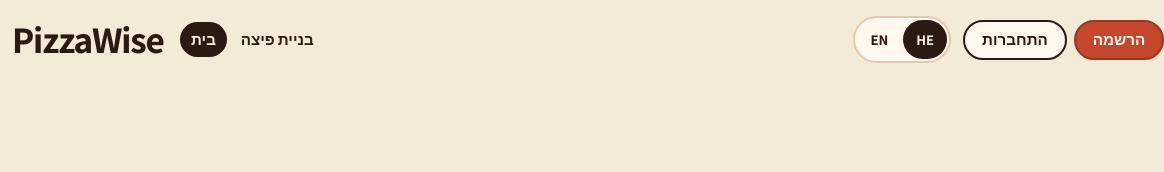
localization › persists the selected language across remounts
Expected: the link "בית" is shown, [180,22,227,57]
Click the button "EN" at (879, 40), box [858,20,901,59]
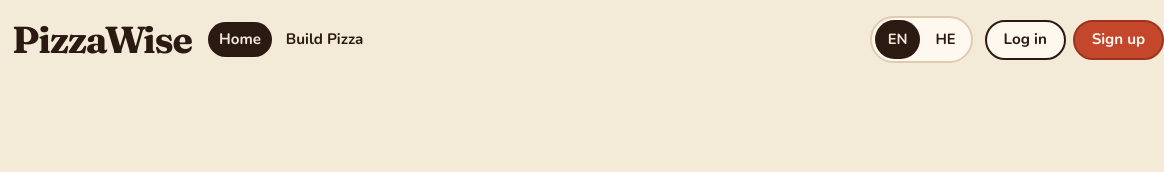
Now the link "Home" is shown, box [208,22,272,57]
